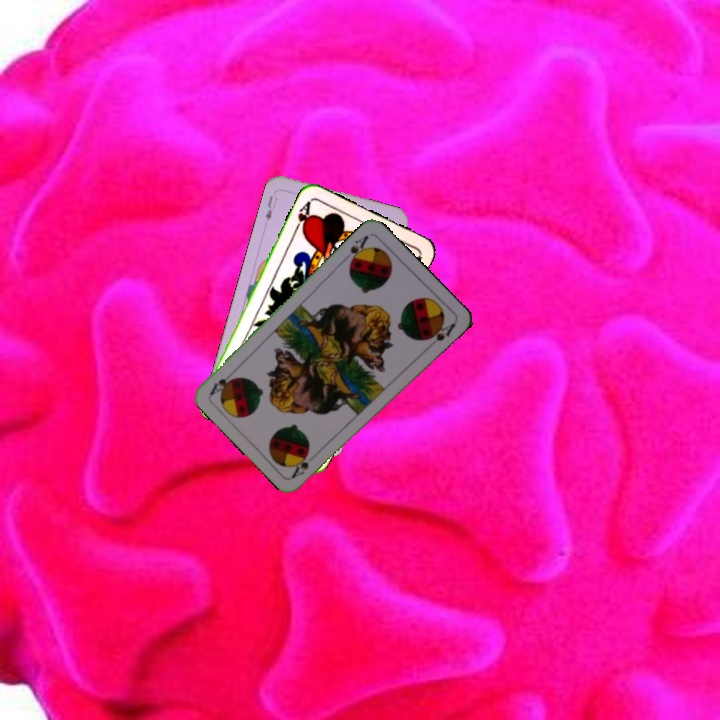EU: (261, 192, 280, 223)
HA: (290, 196, 314, 237)
SA: (340, 231, 371, 268), (287, 454, 311, 481)
